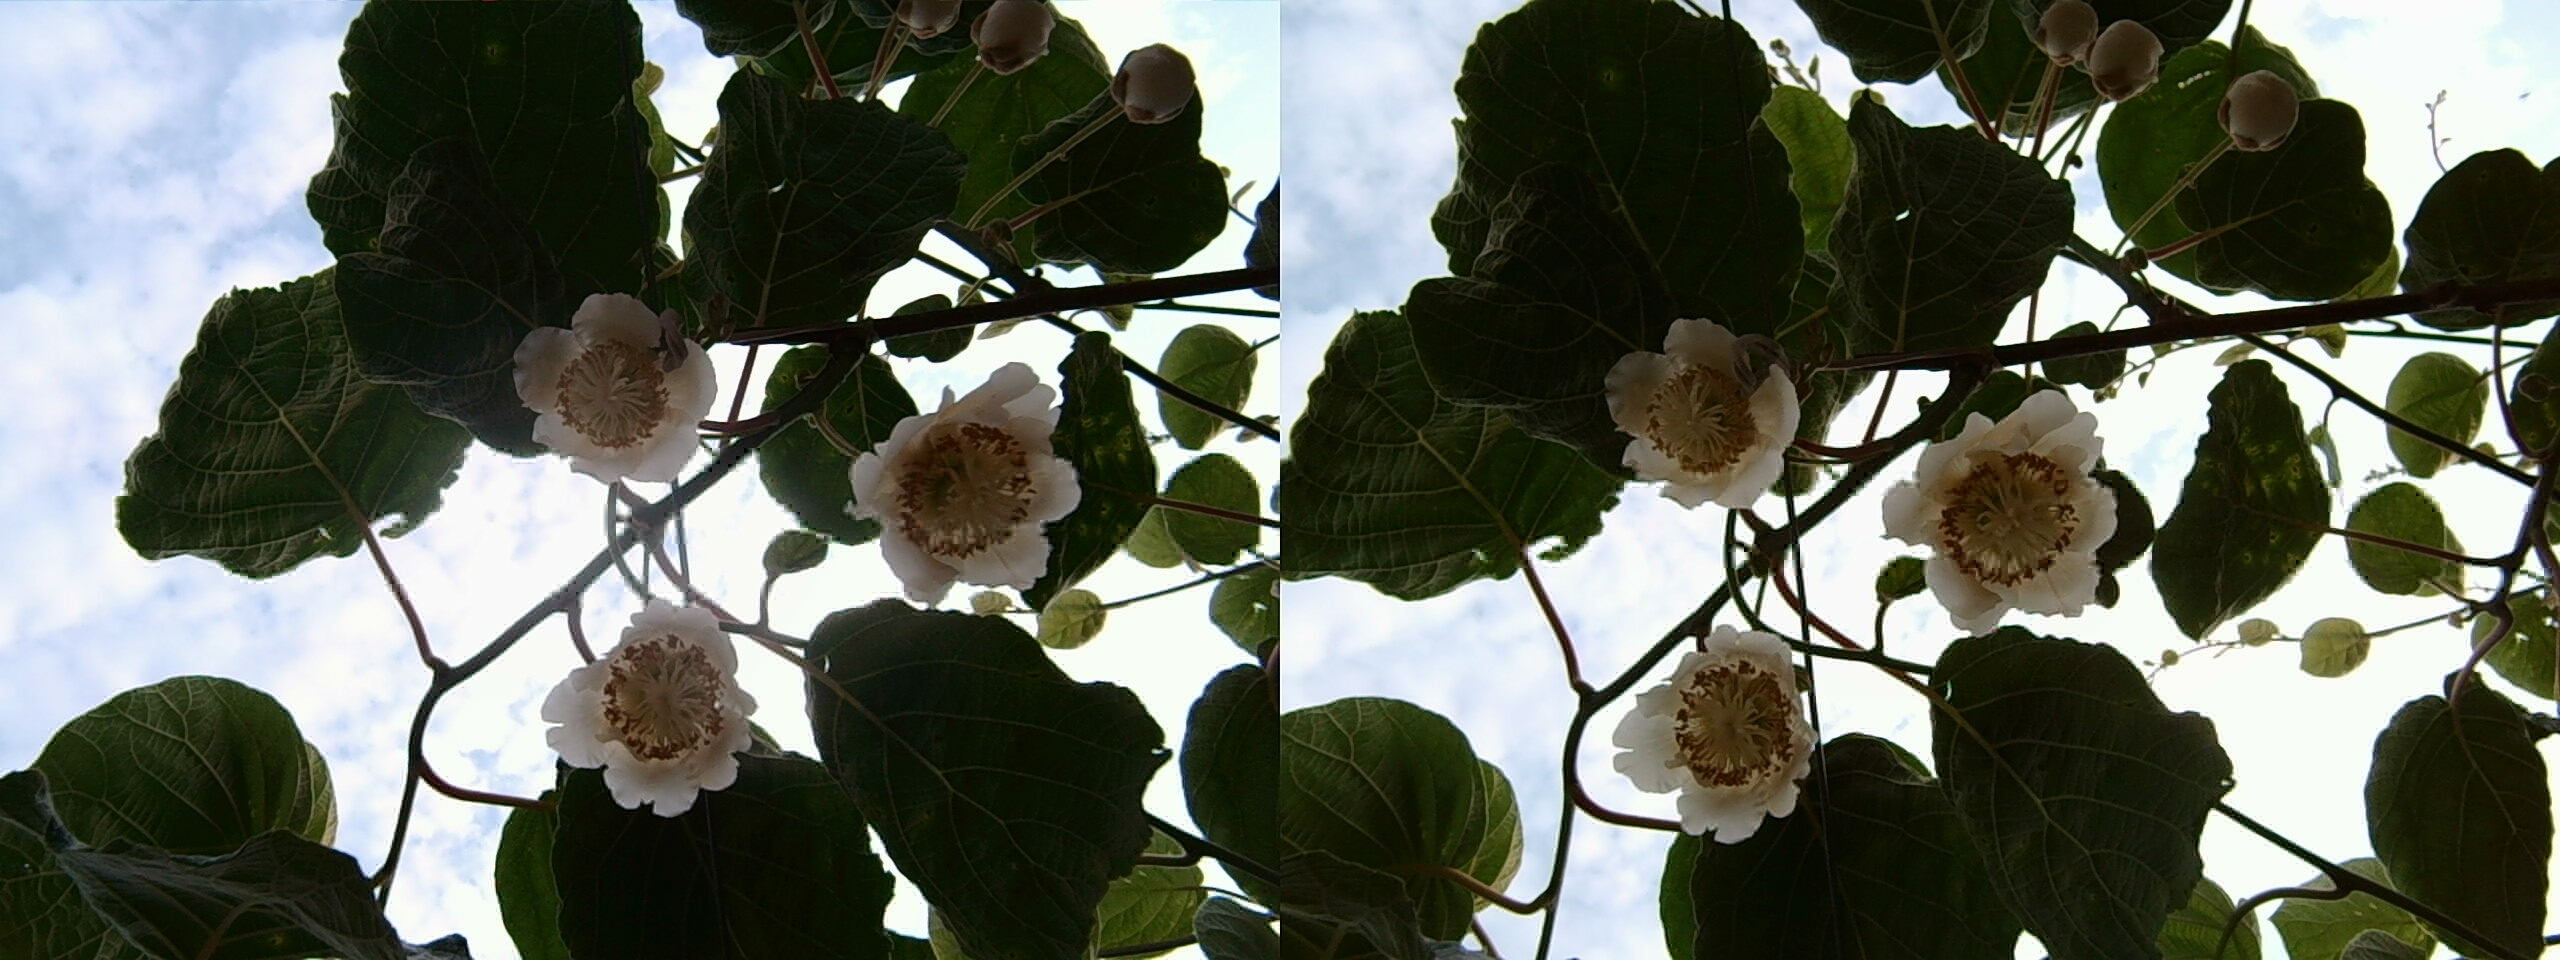flower: (1873, 382, 2137, 629), (842, 369, 1084, 596), (534, 593, 762, 815), (1593, 622, 1822, 834), (500, 274, 717, 482), (1597, 305, 1799, 503)
